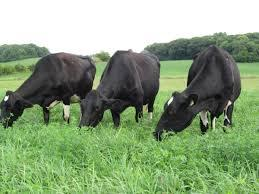cow: (152, 43, 242, 142), (0, 52, 98, 129), (71, 49, 162, 131)
